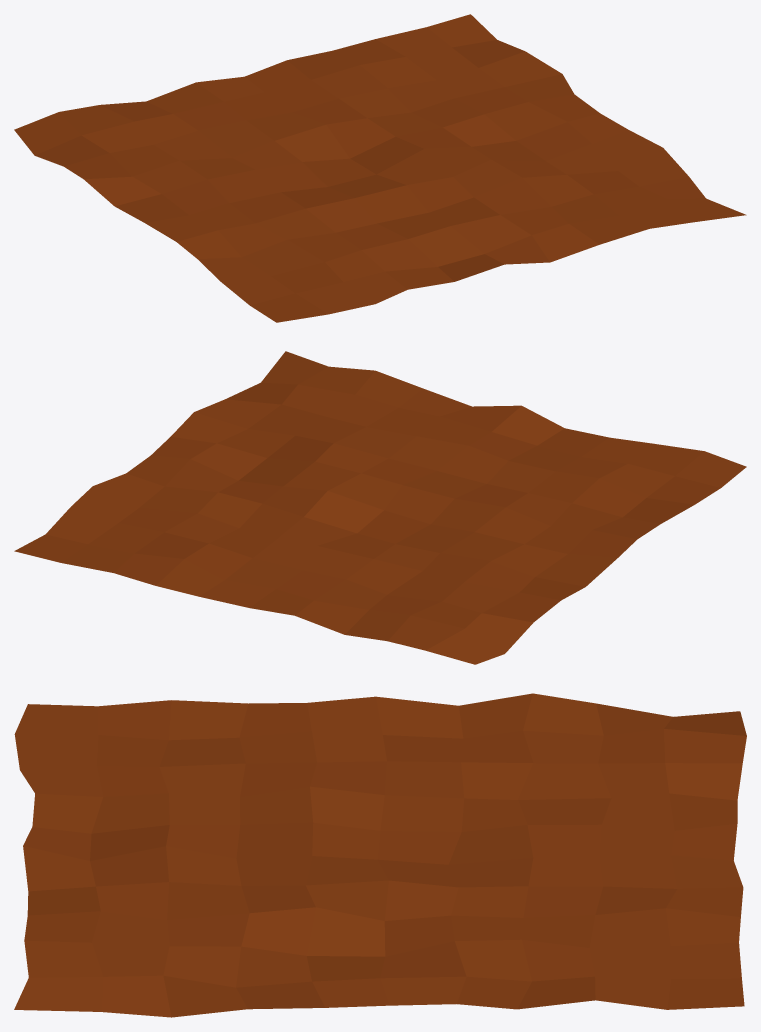
Rendered from Sandpapier_10.fbx.
3 views of the same model, one above another, from view 1: azimuth 30°, elevation 25°; view 2: azimuth 150°, elevation 25°; view 3: azimuth 270°, elevation 25° (orthographic). The views are drawn at different scales.
Visible parts, largest first — view 1: Grid; view 2: Grid; view 3: Grid.
Part boxes in pixels (x1=…): Grid: x1=14, y1=14, x2=746, y2=322; Grid: x1=14, y1=351, x2=746, y2=664; Grid: x1=14, y1=693, x2=746, y2=1017.
Size of the model in its own units: 50.95 by 1.62 by 51.2.
